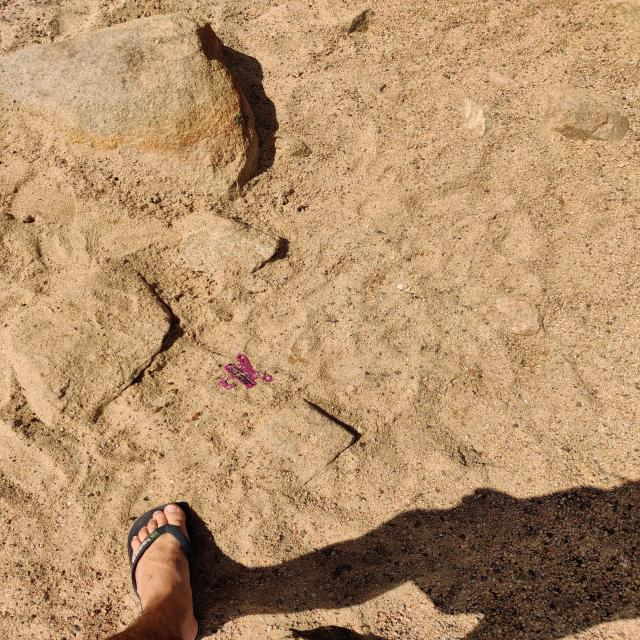litter: (212, 352, 275, 390)
